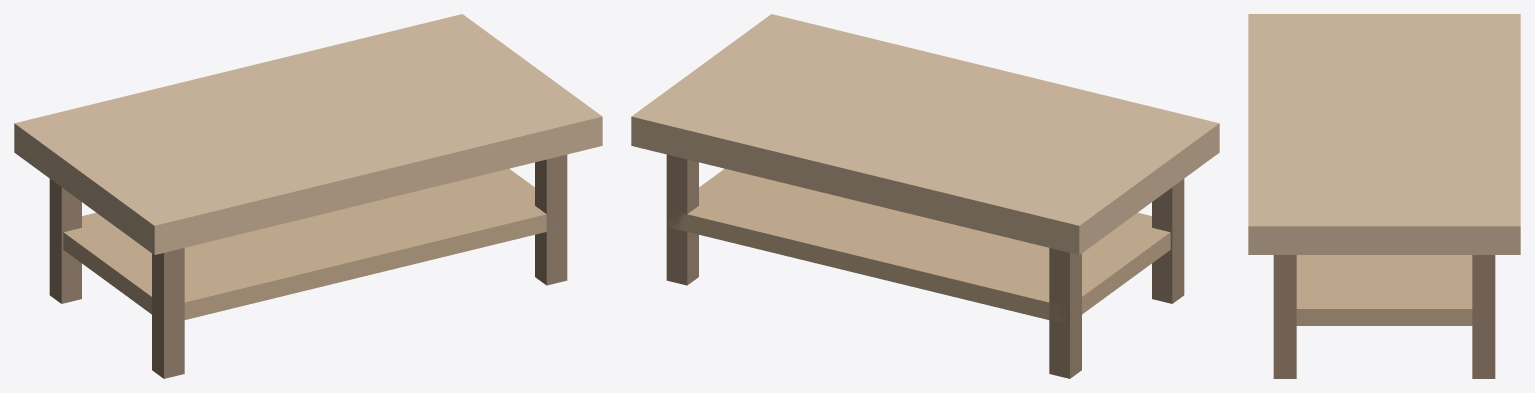
Rendered from coffee-table.glb.
3 renders of one model, left to right at view 1: azimuth 30°, elevation 25°; view 2: azimuth 150°, elevation 25°; view 3: azimuth 270°, elevation 25°, orthographic. The views are drawn at different scales.
Visible parts, largest first — view 1: Coffee Table; view 2: Coffee Table; view 3: Coffee Table.
Part boxes in pixels (left/top/right/bottom): Coffee Table: left=14, top=14, right=602, bottom=378; Coffee Table: left=631, top=14, right=1219, bottom=378; Coffee Table: left=1248, top=14, right=1520, bottom=378.
Bounding box in the file's own units: 1.2 × 0.43 × 0.65.
